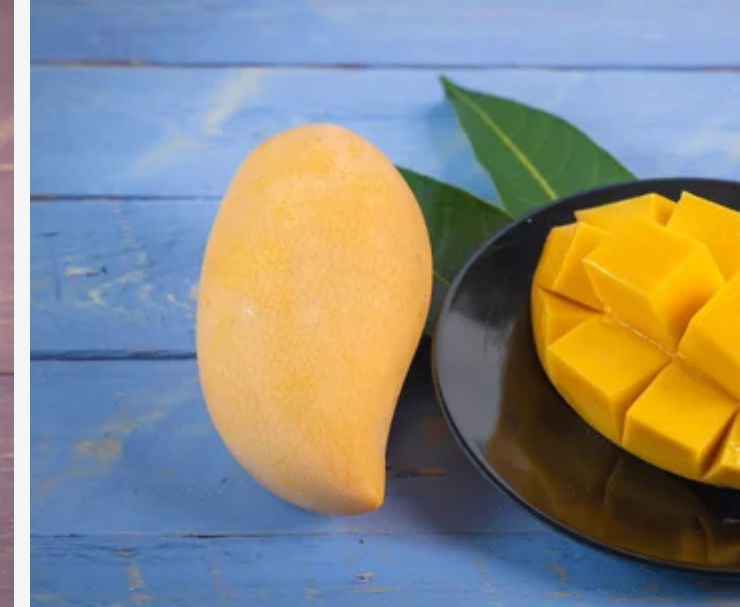mango: (191, 122, 432, 514)
